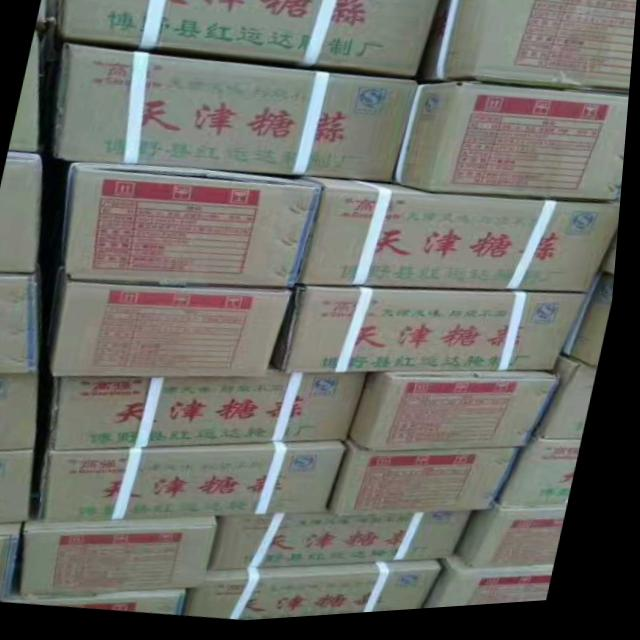box: (55, 44, 422, 190), (293, 181, 624, 300), (65, 163, 322, 293), (57, 0, 442, 81), (395, 89, 631, 213), (53, 265, 297, 383), (276, 290, 596, 379), (55, 367, 373, 453), (42, 445, 354, 524), (417, 0, 637, 103), (218, 510, 482, 576), (355, 378, 565, 456), (28, 520, 230, 596), (191, 566, 454, 624), (338, 445, 528, 522), (466, 510, 576, 576), (434, 562, 564, 615), (0, 150, 46, 273), (541, 359, 604, 448), (506, 445, 589, 512), (11, 590, 194, 618), (567, 281, 620, 376), (0, 266, 45, 375), (0, 375, 45, 451), (0, 450, 41, 523), (11, 70, 42, 153), (0, 523, 32, 603), (605, 244, 622, 283)
